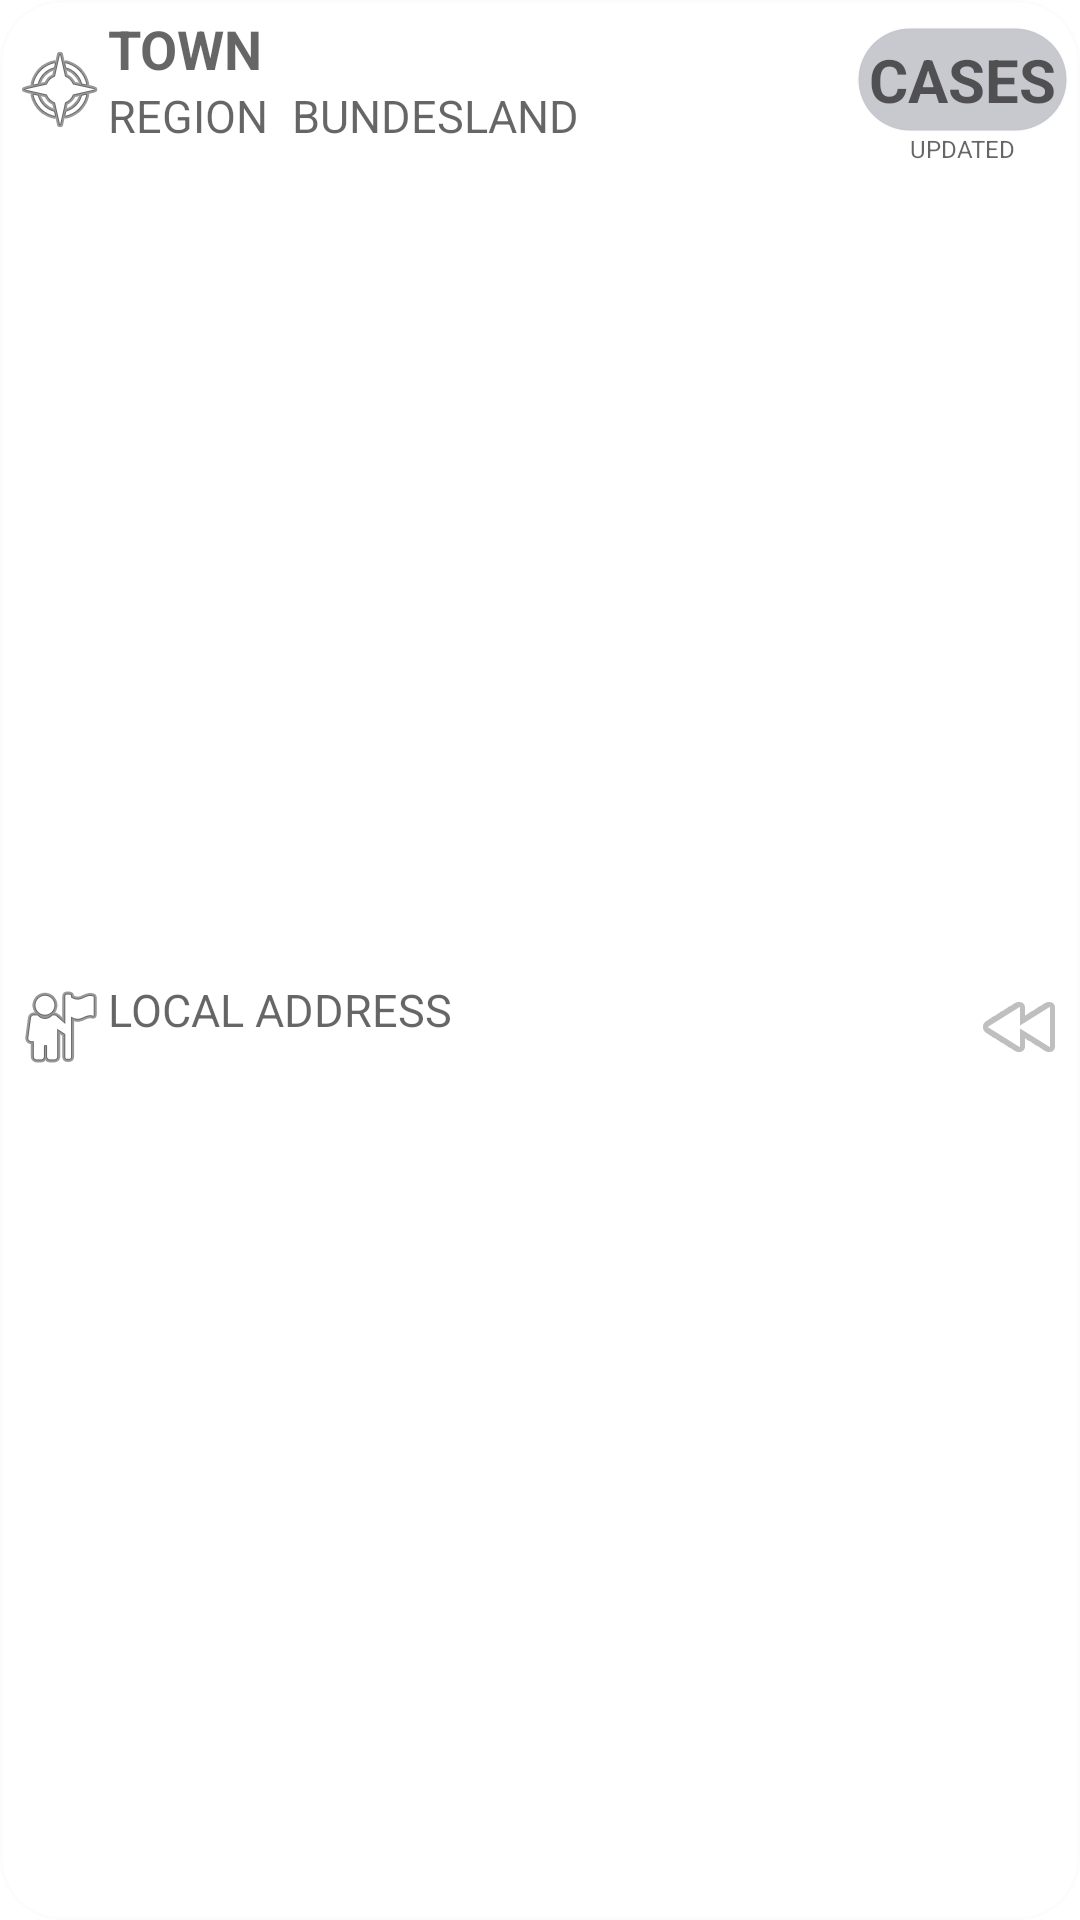

Screen size 1080×1920. Icon name, then its center in pixels as (x=x, y=y):
compass: (x=60, y=89)
